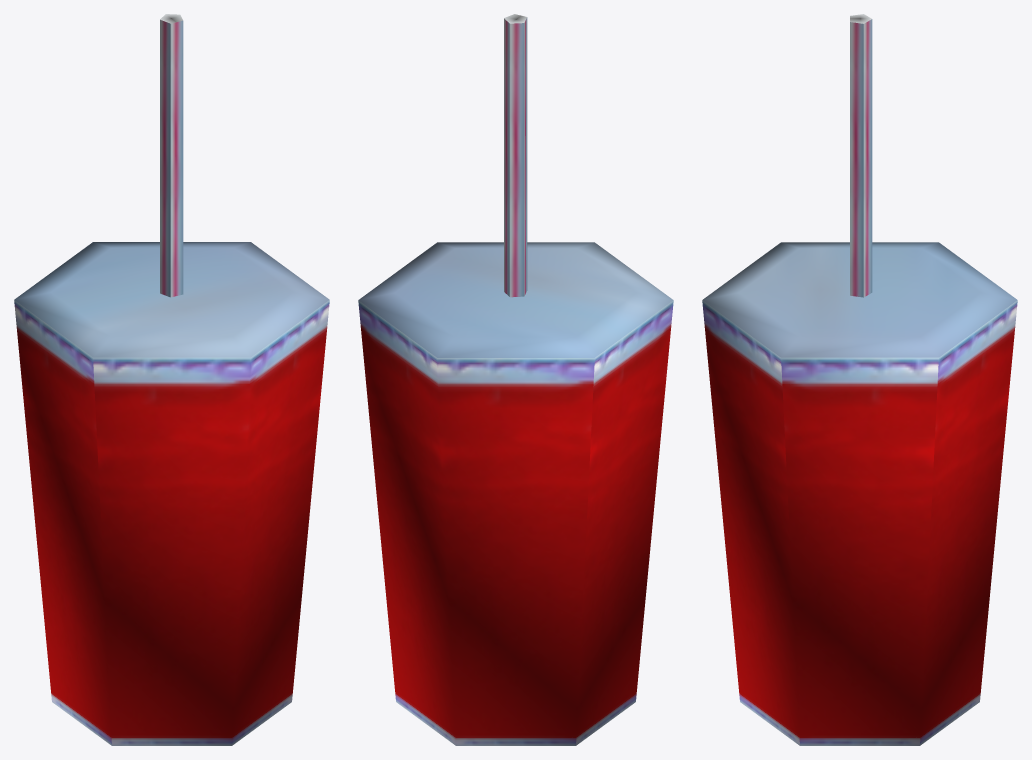
Rendered from stakan.glb.
3 views of the same model, side by side, from view 1: azimuth 30°, elevation 25°; view 2: azimuth 150°, elevation 25°; view 3: azimuth 270°, elevation 25° (orthographic).
Parts seen in each view (by area): view 1: Soda_Cup; view 2: Soda_Cup; view 3: Soda_Cup.
Boxes of the visible parts, <box> form: Soda_Cup: <box>14,14,329,745</box>; Soda_Cup: <box>358,14,673,745</box>; Soda_Cup: <box>702,14,1017,745</box>.
Size of the model in its own units: 0.2422 by 0.668 by 0.2797.
1 material, 1 textured.
